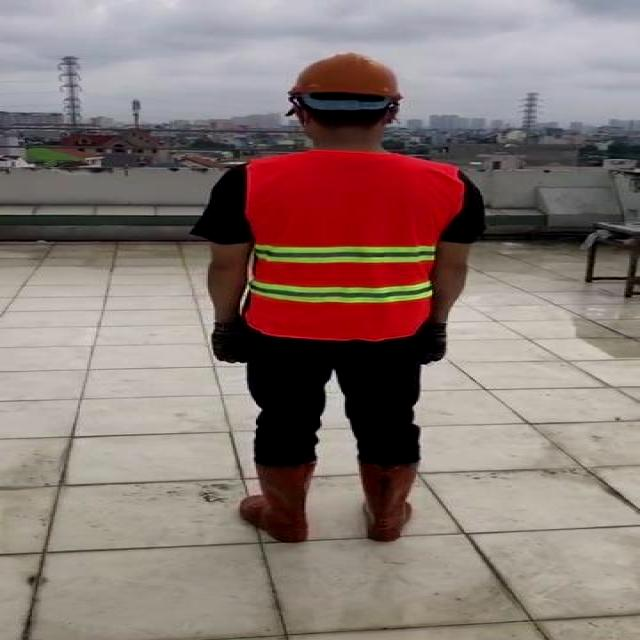boots: (237, 462, 314, 544), (356, 459, 420, 543)
hand_glove: (208, 318, 247, 365), (423, 323, 450, 363)
head_helmet: (284, 50, 412, 103)
person: (195, 45, 488, 550)
vest: (245, 151, 460, 340)
